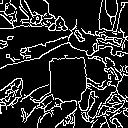cube: (48, 53, 94, 104)
